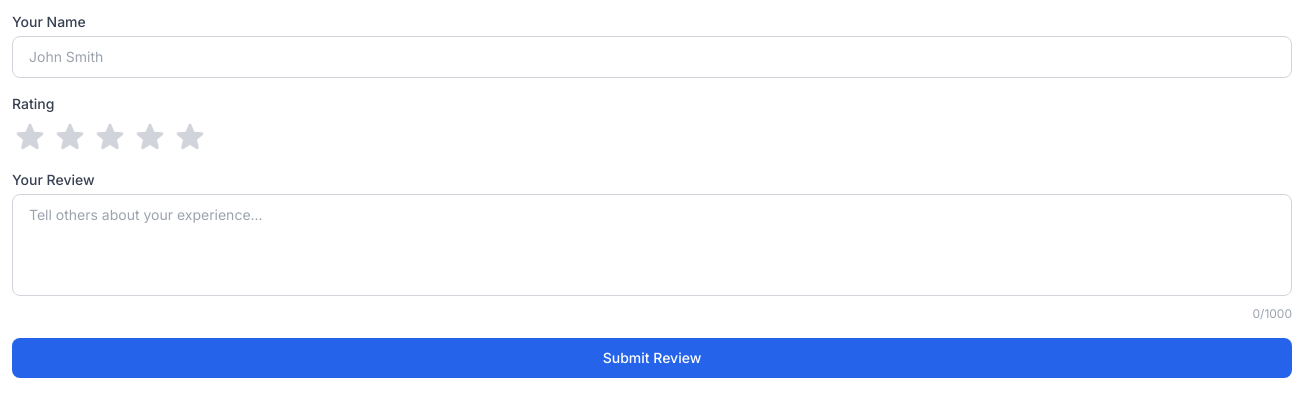
Test: TestimonialForm › shows validation error for empty name
Click the button named "Rate 5 stars". click: (190, 136)
box: [172,118,208,154]
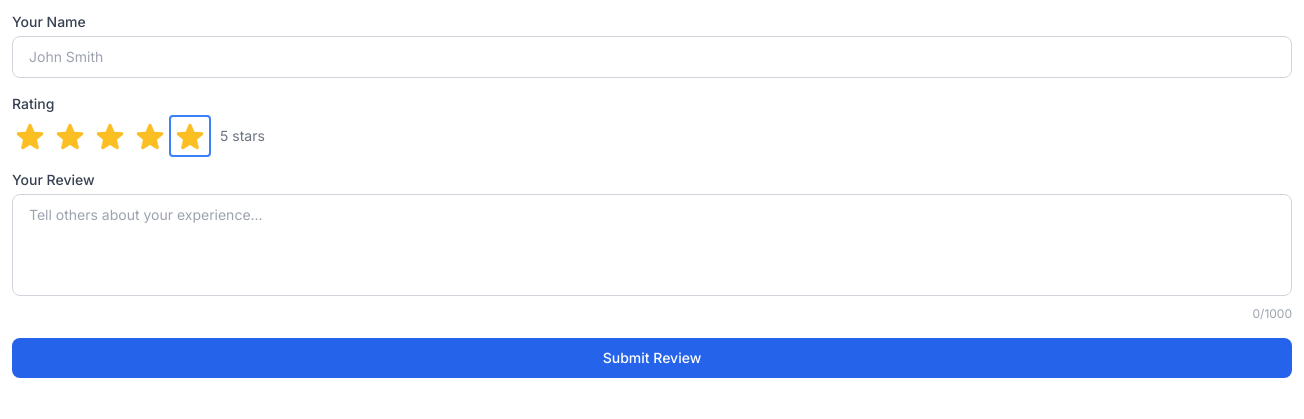
Type "This is a great review text." into the text box labelled "Your Review". click: (652, 245)
box: [12,194,1292,296]
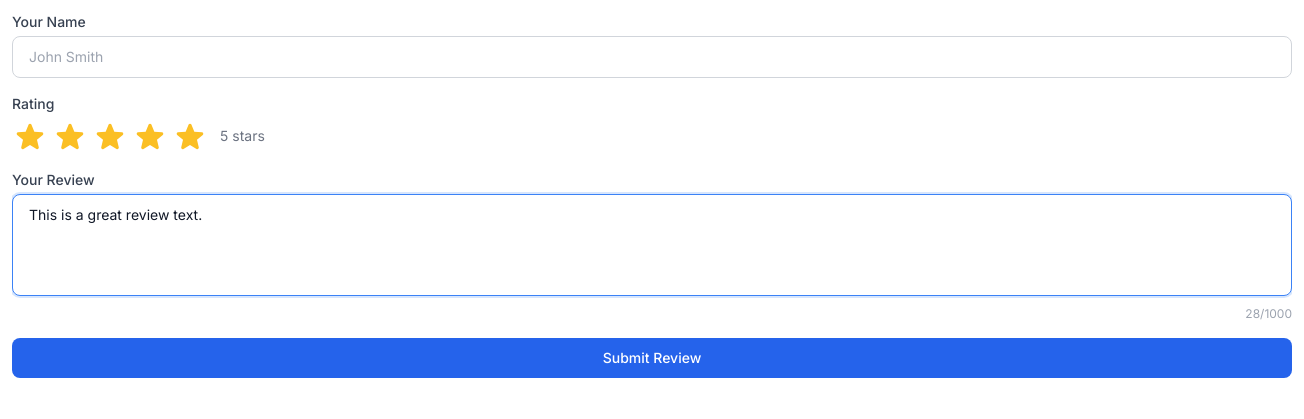
Click the button "Submit Review". click: (652, 358)
box: [12,338,1292,378]
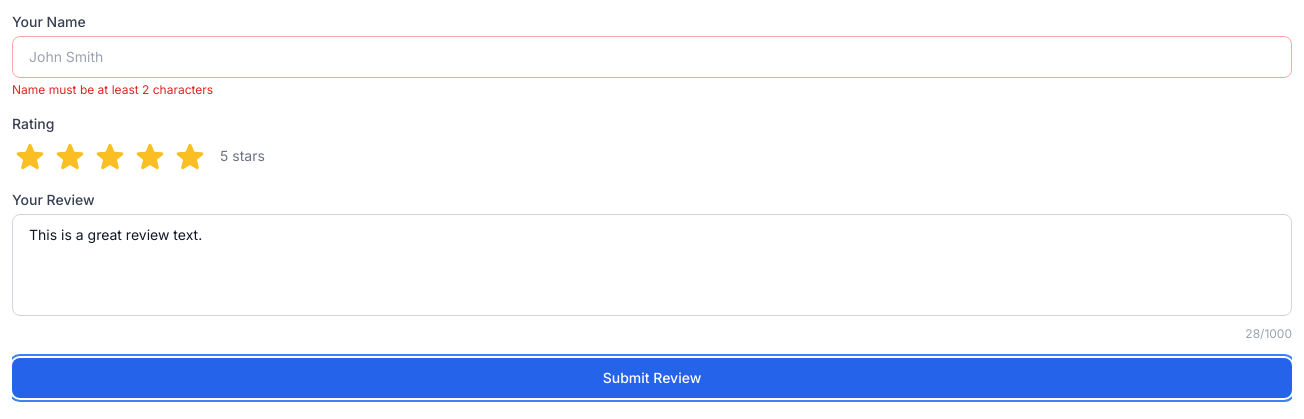
Expected: the text "Name must be at least 2 characters" is shown, [12,82,213,97]
